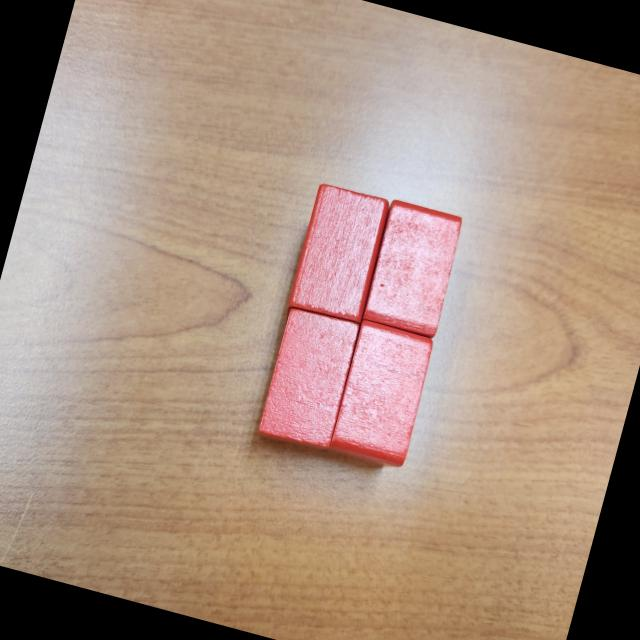red: (326, 319, 438, 474), (284, 180, 396, 328), (254, 304, 364, 454), (358, 198, 468, 340)
